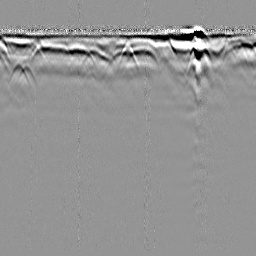cavity: (117, 43, 140, 66)
